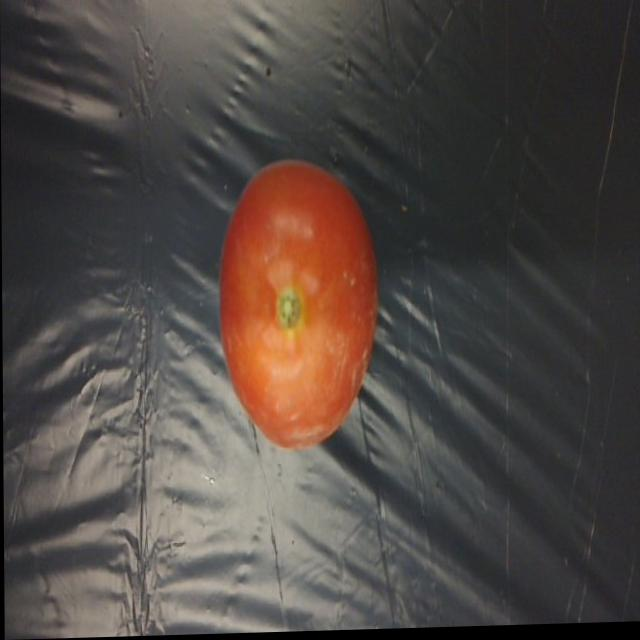kirmizi: (202, 145, 407, 470)
